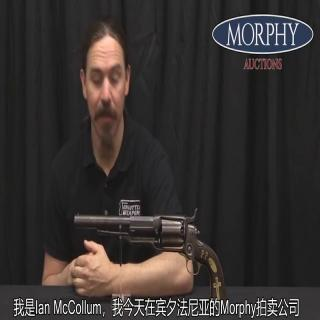gun: (66, 198, 228, 309)
